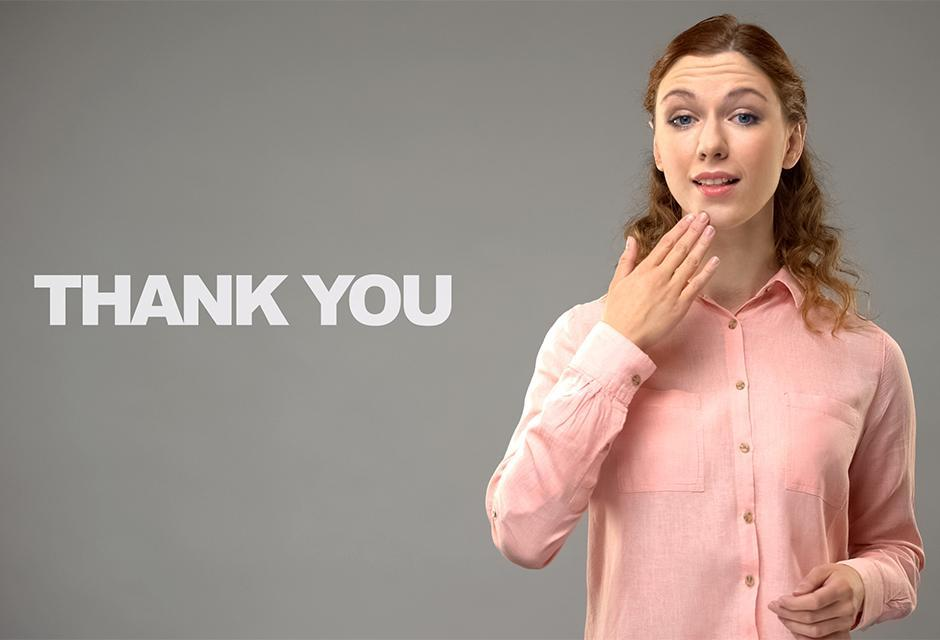Thankyou: (579, 198, 734, 424)
